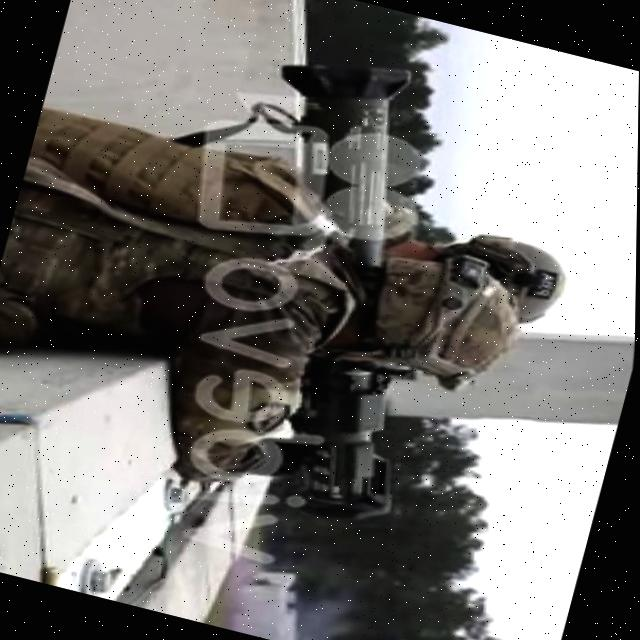rocket: (162, 29, 511, 541)
